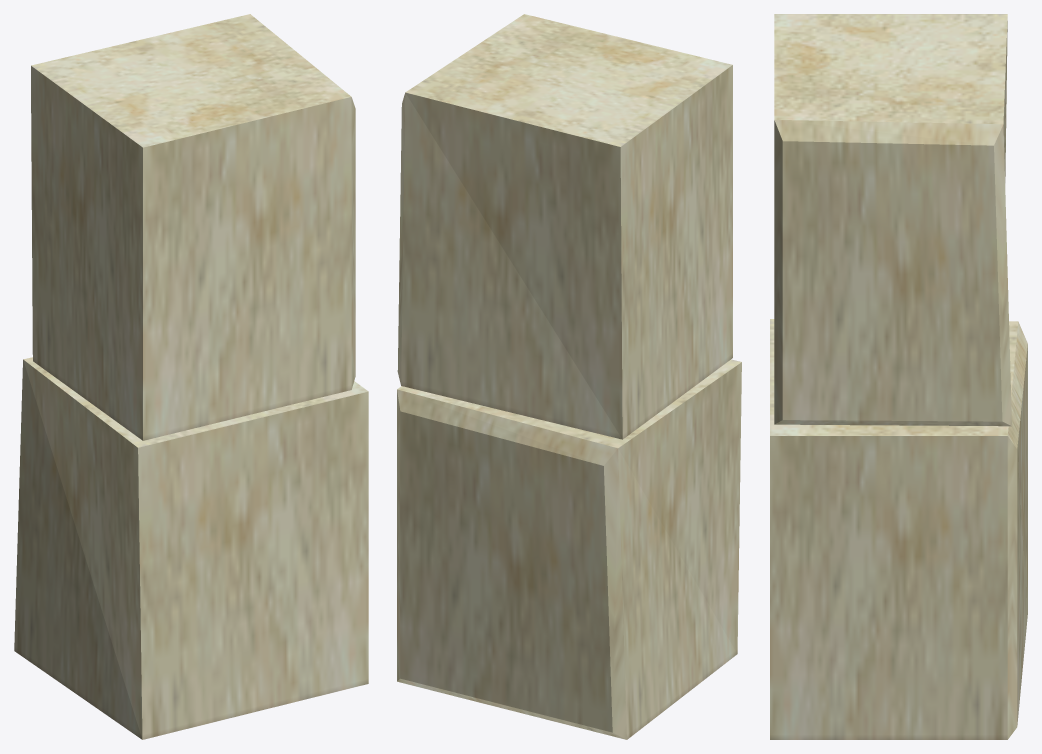
Rendered from C2SMBRIDGEPOSTH.obj.
3 views of the same model, side by side, from view 1: azimuth 30°, elevation 25°; view 2: azimuth 150°, elevation 25°; view 3: azimuth 270°, elevation 25° (orthographic). The views are drawn at different scales.
Parts seen in each view (by area): view 1: Node 0; view 2: Node 0; view 3: Node 0.
Boxes of the visible parts, <box> form: Node 0: <box>14,14,368,739</box>; Node 0: <box>397,14,741,739</box>; Node 0: <box>770,14,1027,739</box>.
Bounding box in the file's own units: 2.68 × 6.38 × 2.43.
1 material, 1 textured.
